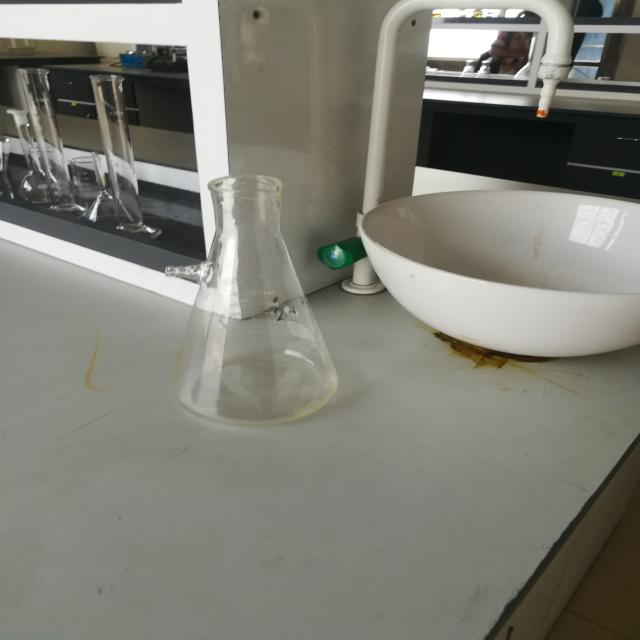Conical_Flask: (121, 157, 366, 465)
